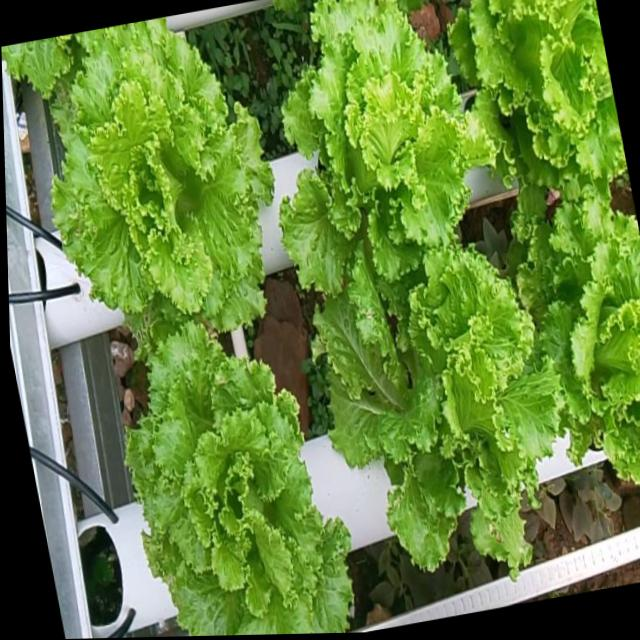Mature: (316, 238, 558, 610), (13, 17, 274, 342), (126, 318, 354, 636), (280, 0, 495, 293), (451, 0, 628, 212), (519, 195, 640, 481)
